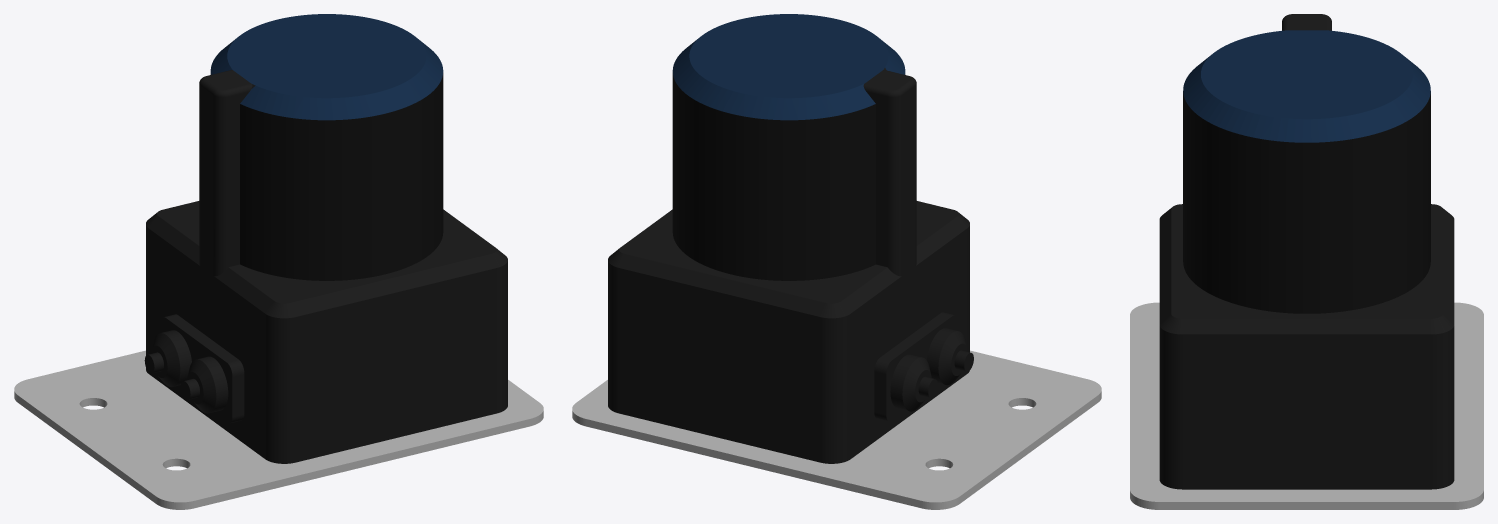
Rendered from rear_lrf.dae.
The picture shows the model from 3 angles, left to right: view 1: azimuth 30°, elevation 25°; view 2: azimuth 150°, elevation 25°; view 3: azimuth 270°, elevation 25°; orthographic projection. The views are drawn at different scales.
Visible parts, largest first — view 1: Urg, Rear_Lrf_Plate; view 2: Urg, Rear_Lrf_Plate; view 3: Urg, Rear_Lrf_Plate.
Boxes of the visible parts, x1,y1,x2,y2 form: Urg: (144,14,507,463); Rear_Lrf_Plate: (14,350,543,509); Urg: (608,14,973,463); Rear_Lrf_Plate: (572,350,1101,509); Urg: (1159,14,1454,489); Rear_Lrf_Plate: (1130,302,1483,509).
Size of the model in its own units: 0.08 by 0.06 by 0.0675.
2 materials, 1 textured.
